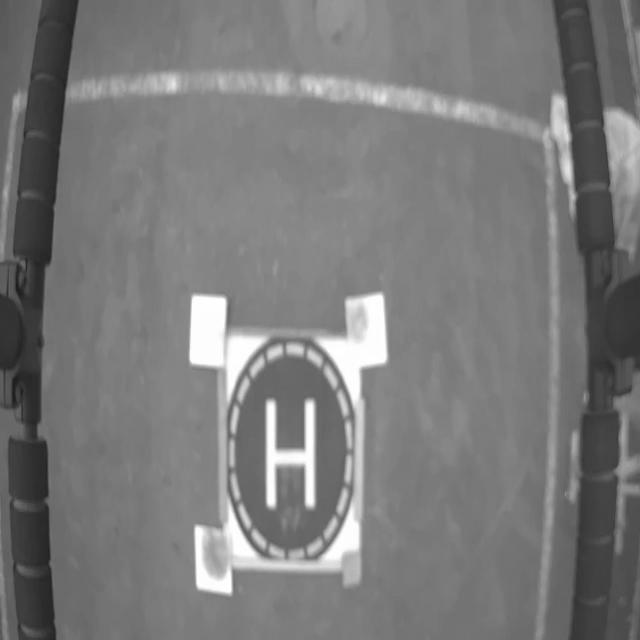Helipad: (265, 398, 316, 506)
